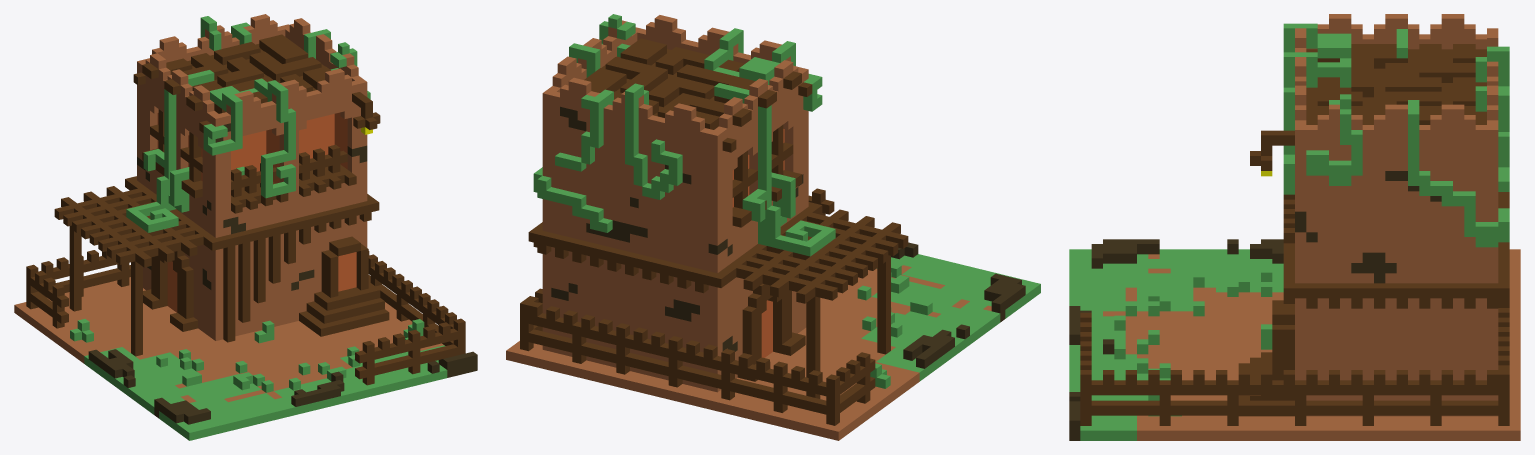
The model's file is GGJ_House Present.obj.
The picture shows the model from 3 angles, left to right: view 1: azimuth 30°, elevation 25°; view 2: azimuth 150°, elevation 25°; view 3: azimuth 270°, elevation 25°; orthographic projection. The views are drawn at different scales.
Size of the model in its own units: 3.8 by 3.2 by 4.
1 material, 1 textured.
